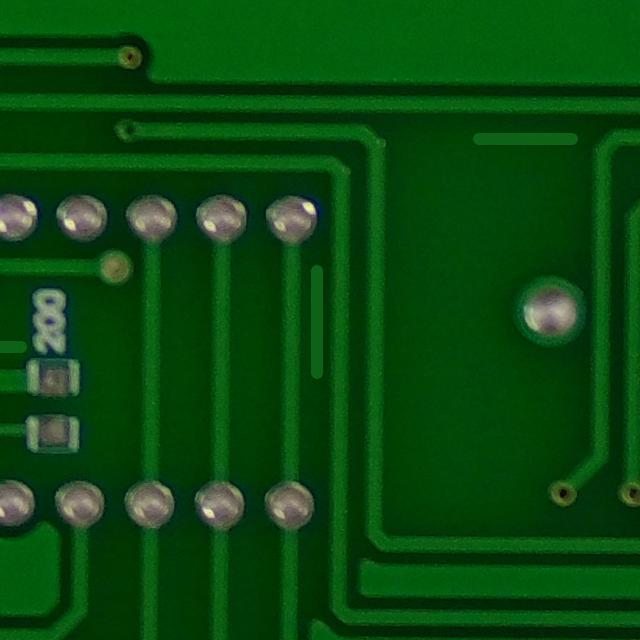spurious_copper: (292, 250, 349, 391)
